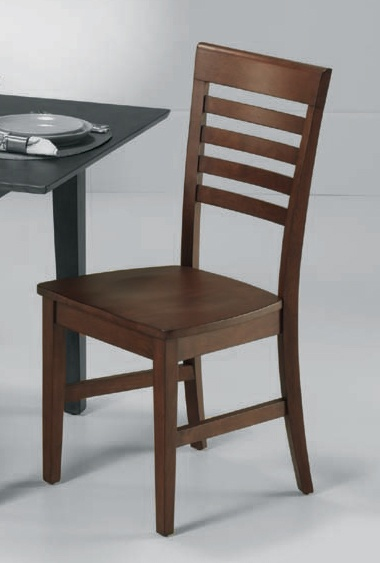obstacle: (37, 43, 330, 534)
